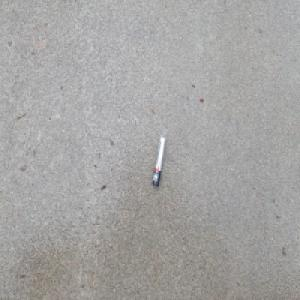Battery: (152, 133, 165, 187)
